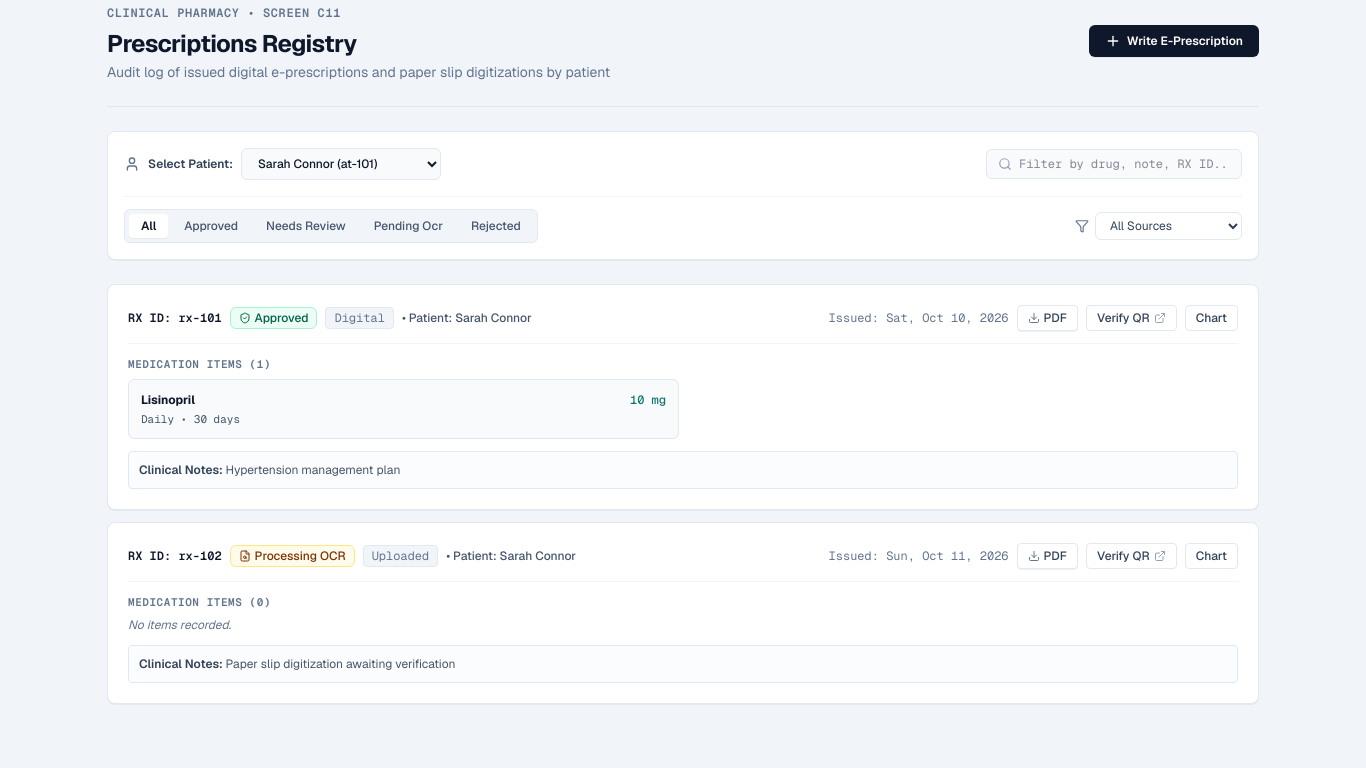
Test case: DoctorPrescriptionsList Component (Screen C11) › filters prescriptions by status tab
Expected: the text "Lisinopril" is shown, [141,392,195,408]
Expected: the text "Paper slip digitization awaiting verification" is shown, [226,656,455,672]
# Filter by pending_ocr status tab button
Click the button "pending ocr".
click(408, 226)  # box [362,214,455,238]
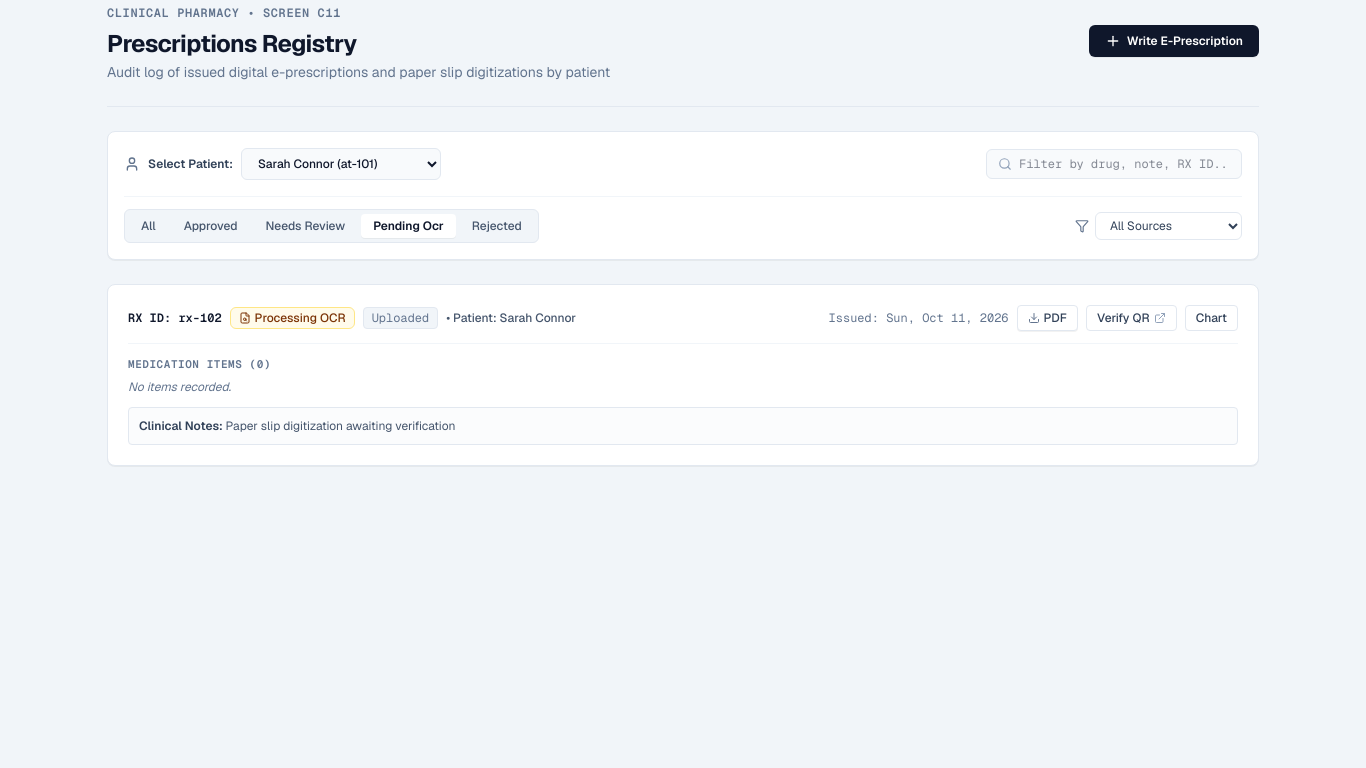
Expected: the text "Paper slip digitization awaiting verification" is shown, [226,418,455,434]
Now the text "Lisinopril" is gone
